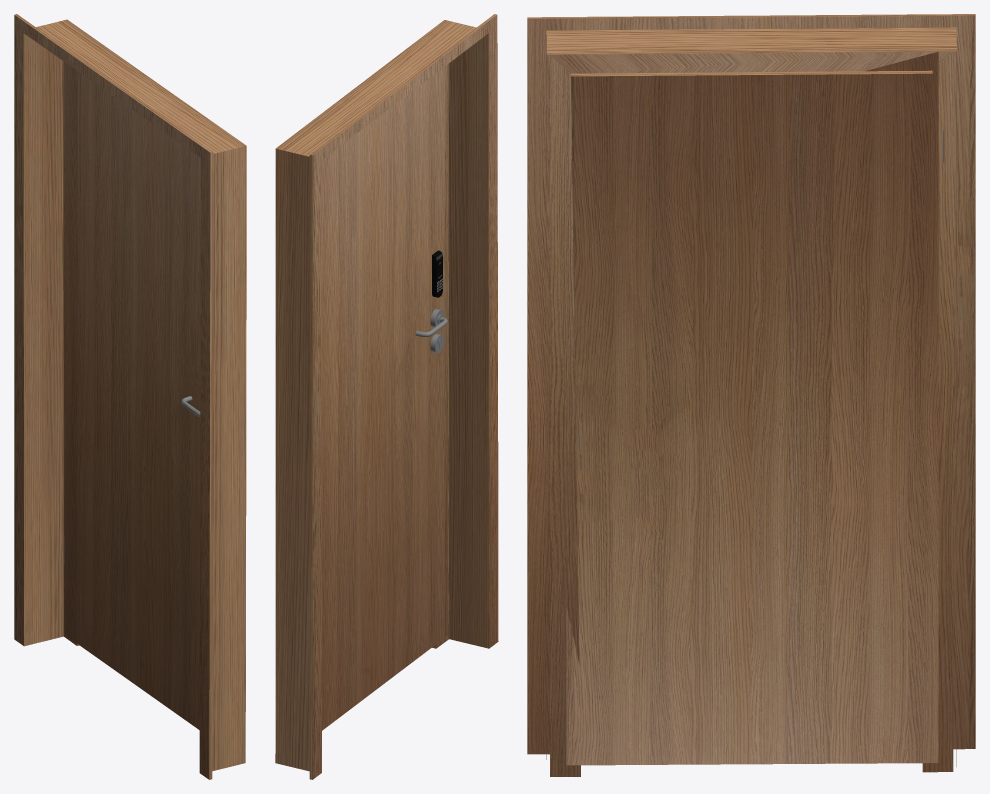
The model's file is wooden_door_framed.fbx.
The picture shows the model from 3 angles, left to right: view 1: azimuth 30°, elevation 25°; view 2: azimuth 150°, elevation 25°; view 3: azimuth 270°, elevation 25°; orthographic projection. The views are drawn at different scales.
Parts seen in each view (by area): view 1: door_face.007; view 2: door_face.007; view 3: door_face.007.
Part boxes in pixels (x1,y1,x2,y2): door_face.007: [14, 14, 246, 779]; door_face.007: [275, 14, 498, 779]; door_face.007: [527, 14, 975, 776].
Bounding box in the file's own units: 17.86 × 213 × 117.
Materials: 3 (2 with a texture image).
